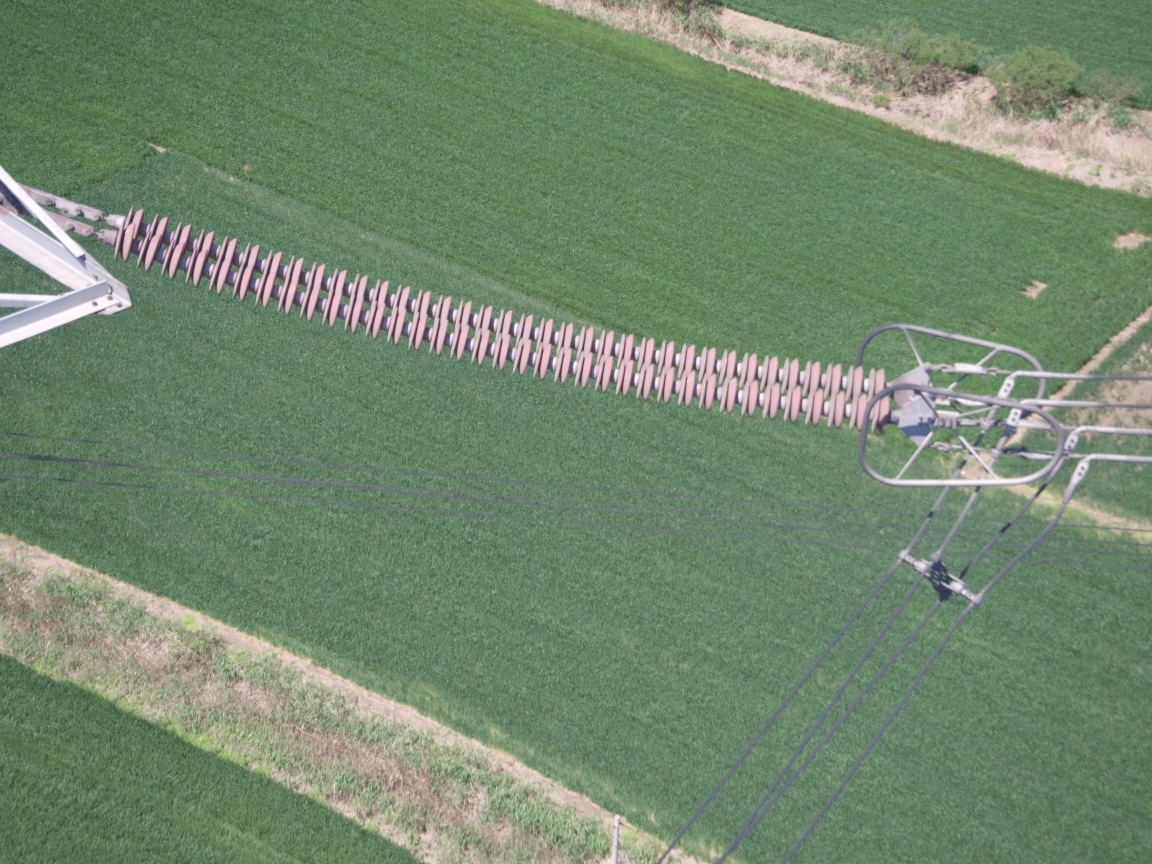insulator: (66, 202, 908, 435)
